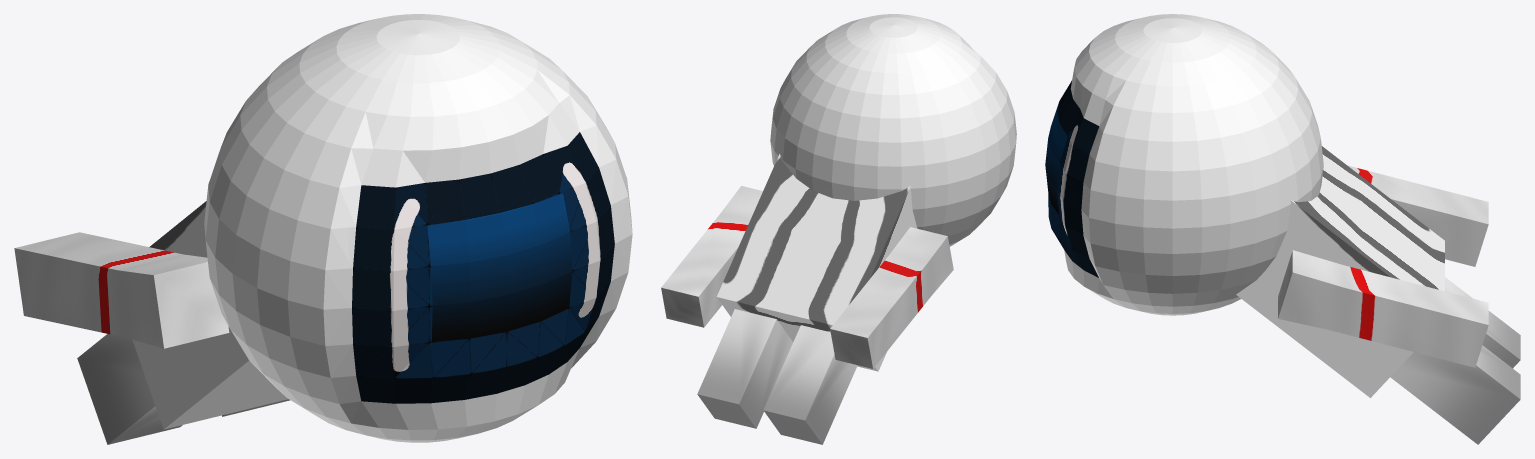
The model's file is player.obj.
The picture shows the model from 3 angles, left to right: view 1: azimuth 30°, elevation 25°; view 2: azimuth 150°, elevation 25°; view 3: azimuth 270°, elevation 25°; orthographic projection. The views are drawn at different scales.
Visible parts, largest first — view 1: 球; view 2: 球; view 3: 球.
Boxes of the visible parts, x1,y1,x2,y2 form: 球: (14,14,632,444); 球: (661,14,1016,444); 球: (1045,14,1520,444).
Size of the model in its own units: 0.6006 by 0.8446 by 0.9458.
1 material, 1 textured.
